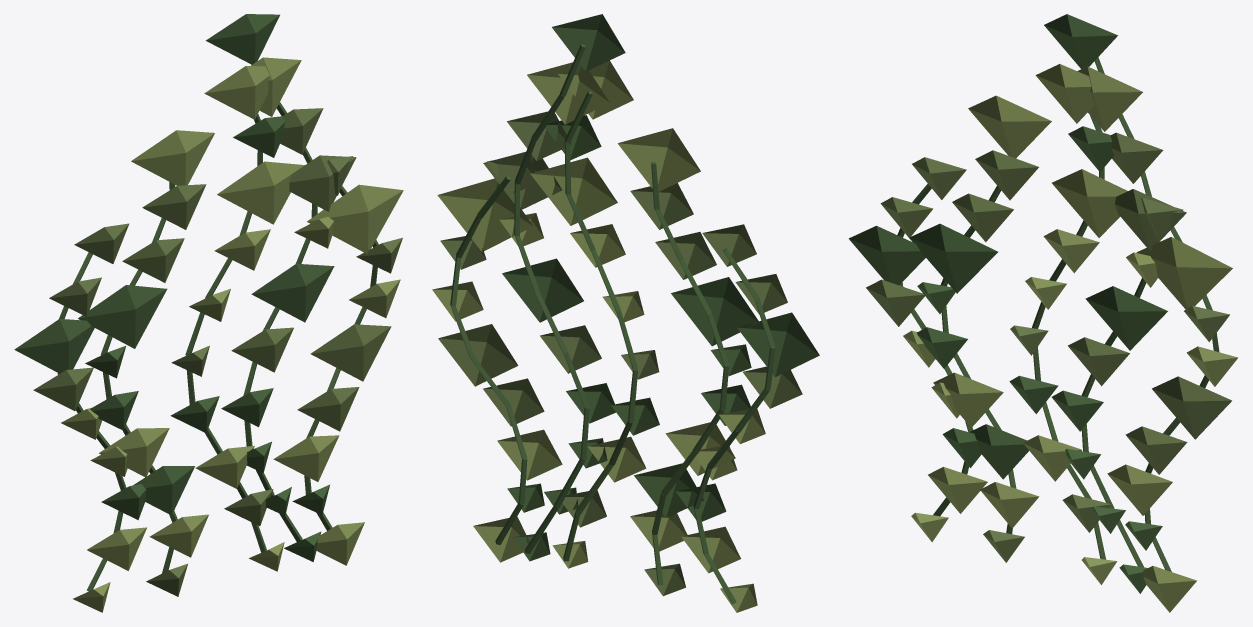
The model's file is Ivy_Short.fbx.
3 renders of one model, left to right at view 1: azimuth 30°, elevation 25°; view 2: azimuth 150°, elevation 25°; view 3: azimuth 330°, elevation 25°, orthographic.
Visible parts, largest first — view 1: Ivy_Short; view 2: Ivy_Short; view 3: Ivy_Short.
Boxes of the visible parts, left/top/right/bottom form: Ivy_Short: left=14, top=14, right=403, bottom=612; Ivy_Short: left=432, top=14, right=819, bottom=612; Ivy_Short: left=848, top=14, right=1237, bottom=612.
Size of the model in its own units: 1.04 by 1.48 by 0.1075.
